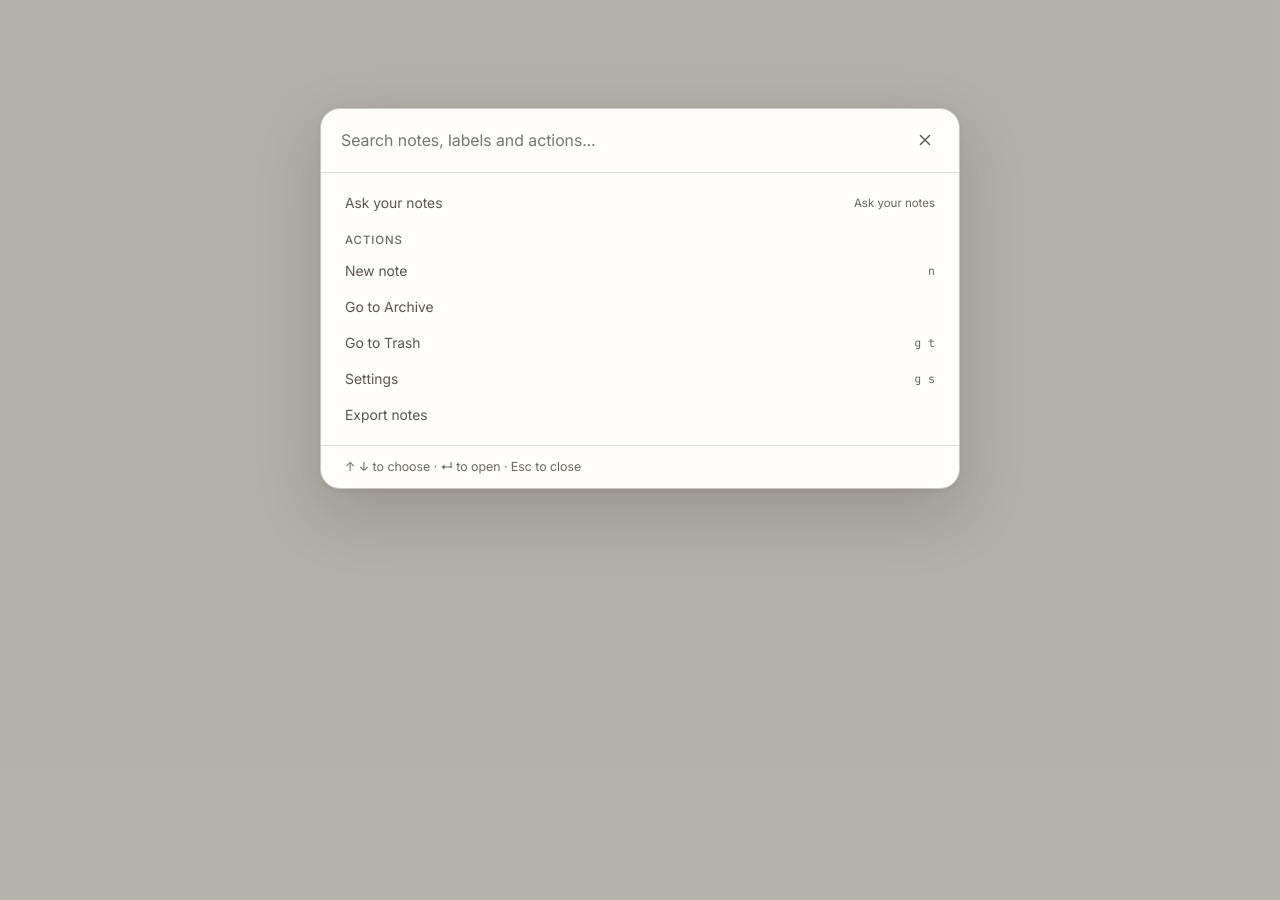
Scenario: runs Ask forms and saves via the plugin action, preserving server provenance
Click the option "Ask your notes Ask your notes": click(394, 202) [333,185,947,221]
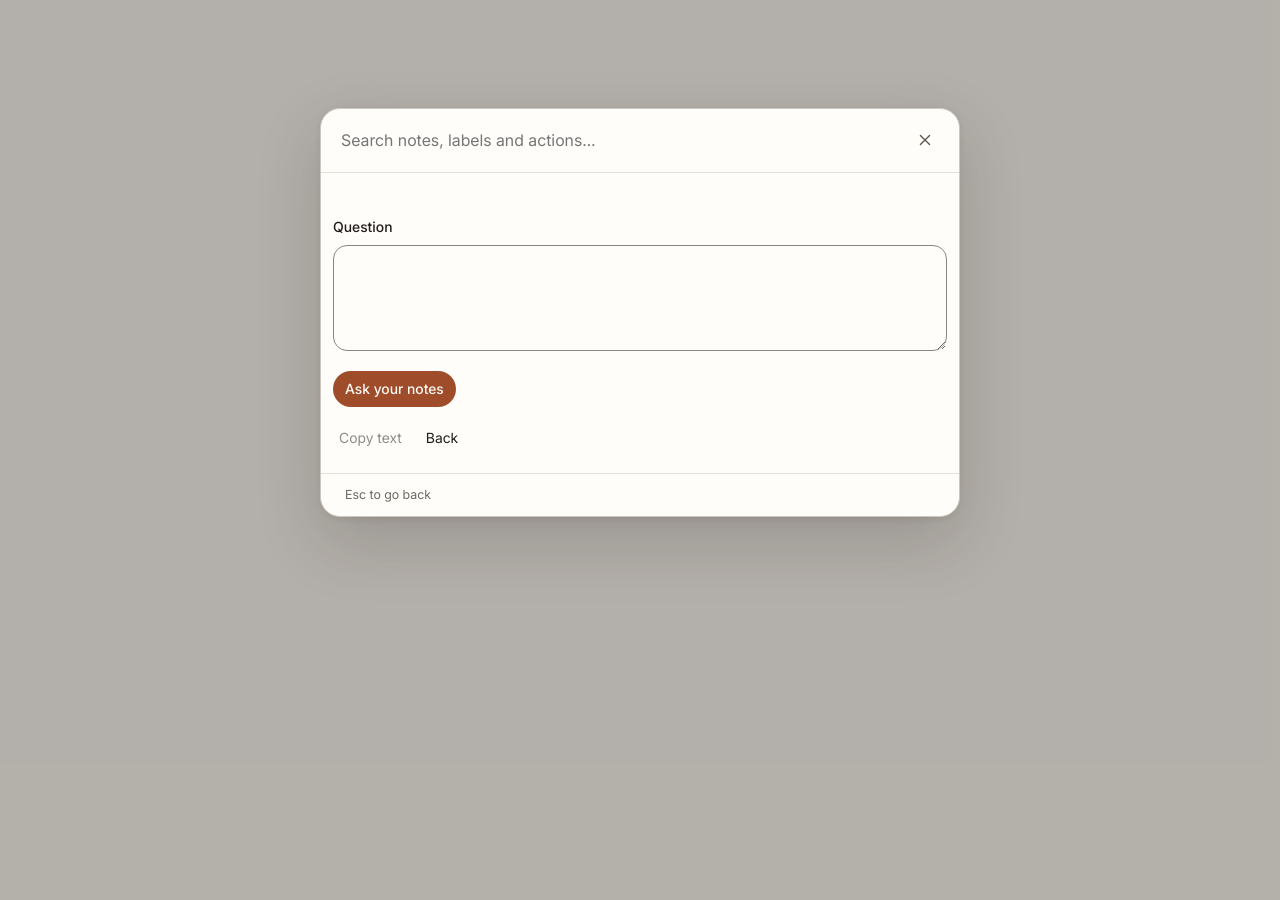
In the text box labelled "Question": (640, 298) [333,245,947,351], type "Where is coffee?"
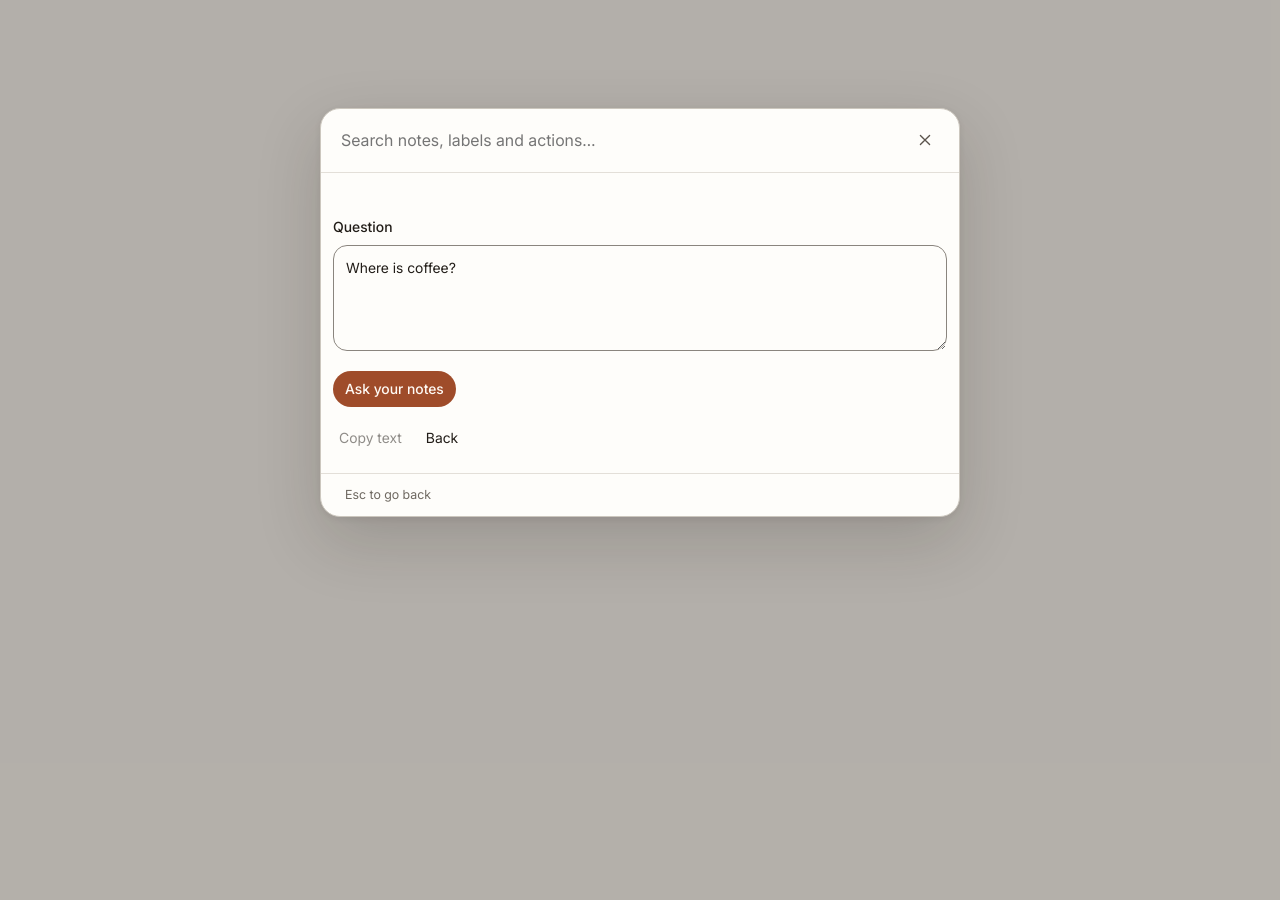
Note: The form submits with the command's own title, not a generic "Run".
Click the button "Ask your notes": click(394, 389) [333,371,456,407]
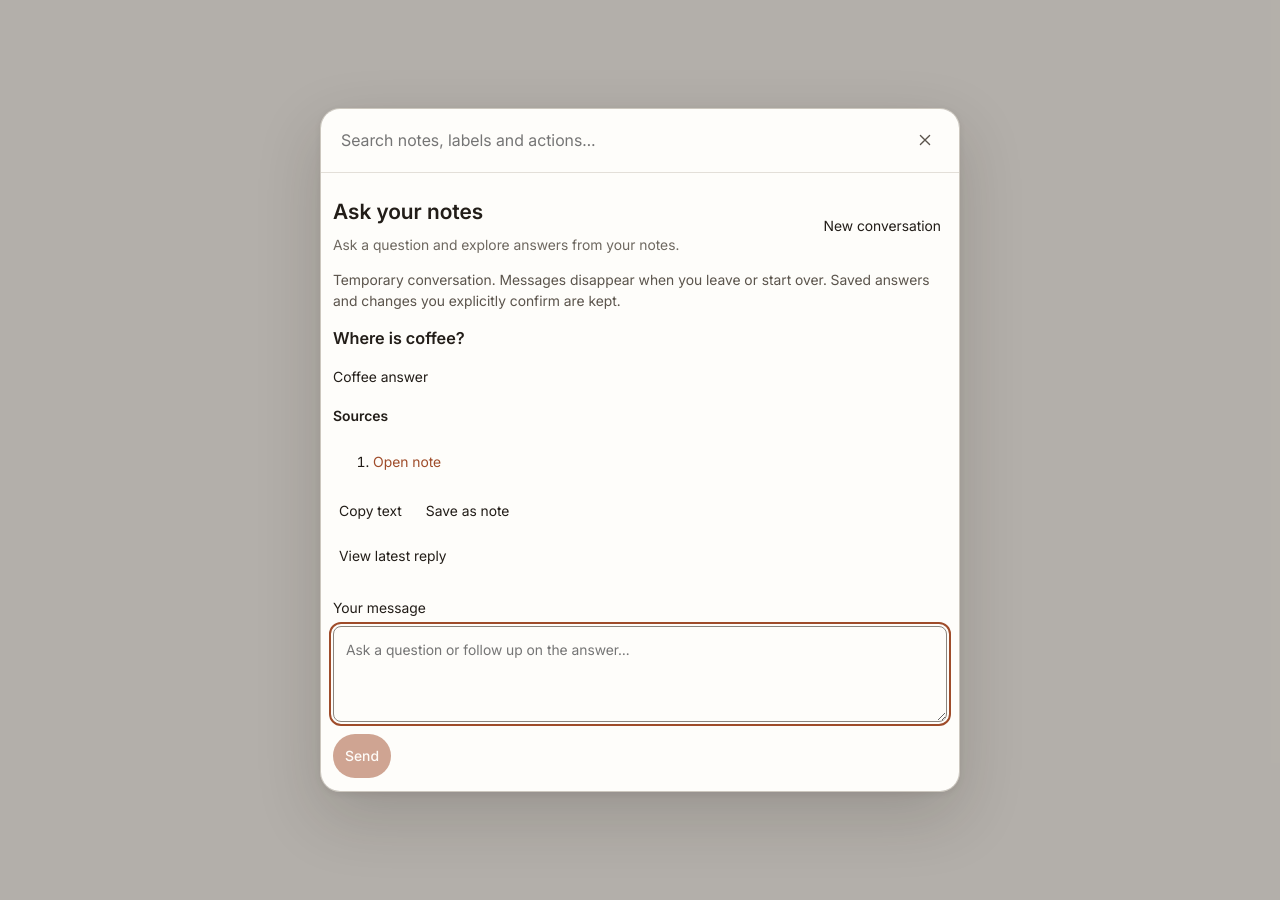
Expected: the text "Coffee answer" is shown, [333,368,428,385]
Expected: the number of buttons "Save as note" is 1
Click the button "Save as note": click(468, 511) [420,500,515,522]
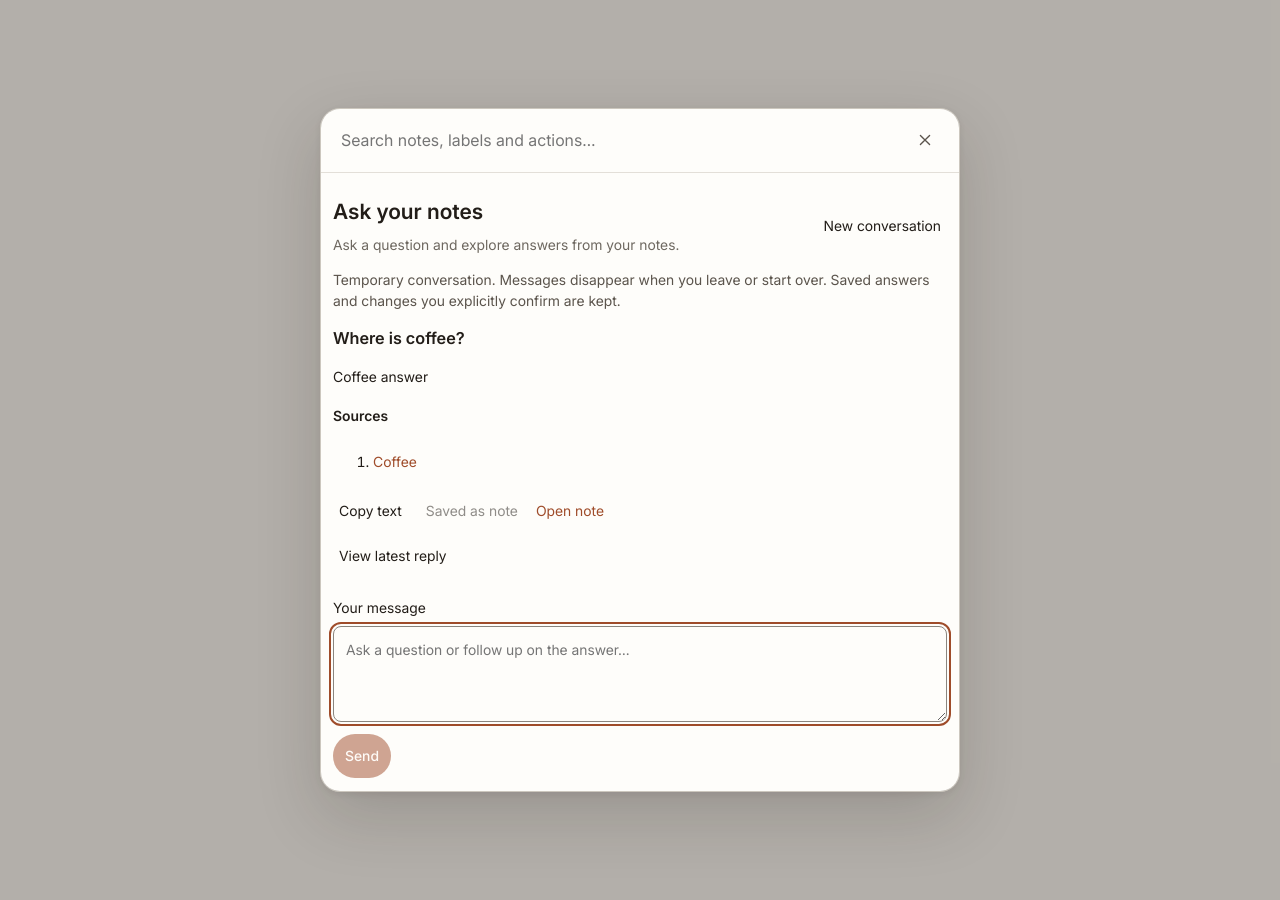
Expected: the text "Coffee answer" is shown, [333,368,428,385]
Expected: the button "Saved as note" is shown, [420,500,524,522]
